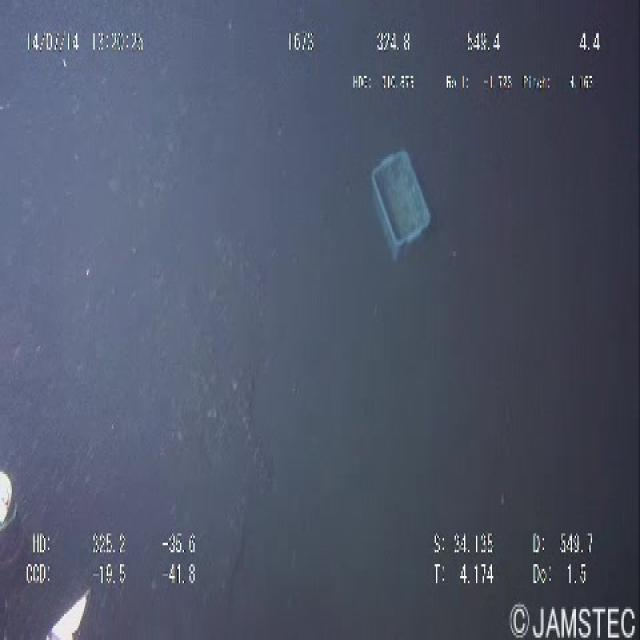plastic: (364, 133, 436, 263)
